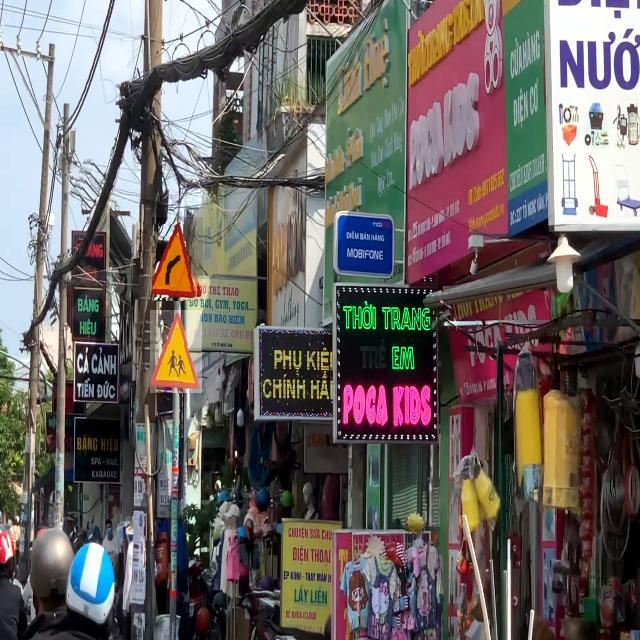W-201b: (152, 217, 203, 301)
W-225: (150, 310, 202, 393)
